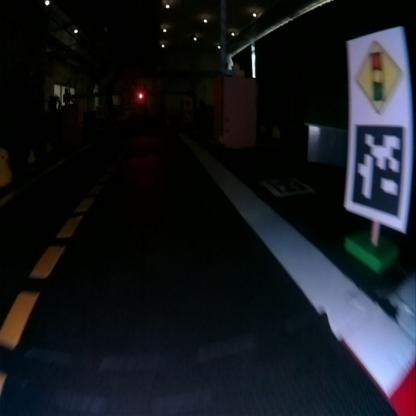QR code: (352, 126, 403, 216), (259, 178, 311, 198)
Signal sign: (354, 38, 402, 114)
Traffic light: (136, 92, 142, 97)
